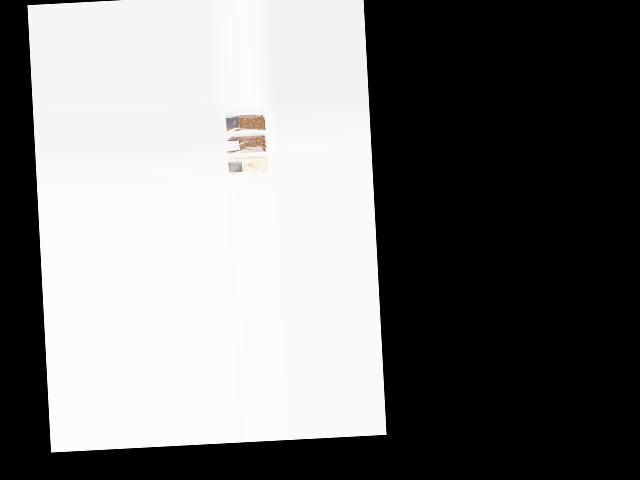chocolate: (226, 107, 269, 133)
